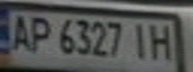2: (90, 17, 109, 57)
3: (72, 17, 93, 56)
6: (51, 16, 78, 56)
7: (106, 18, 130, 58)
A: (3, 11, 36, 53)
H: (145, 20, 175, 61)
I: (127, 20, 154, 61)
P: (24, 12, 54, 53)
